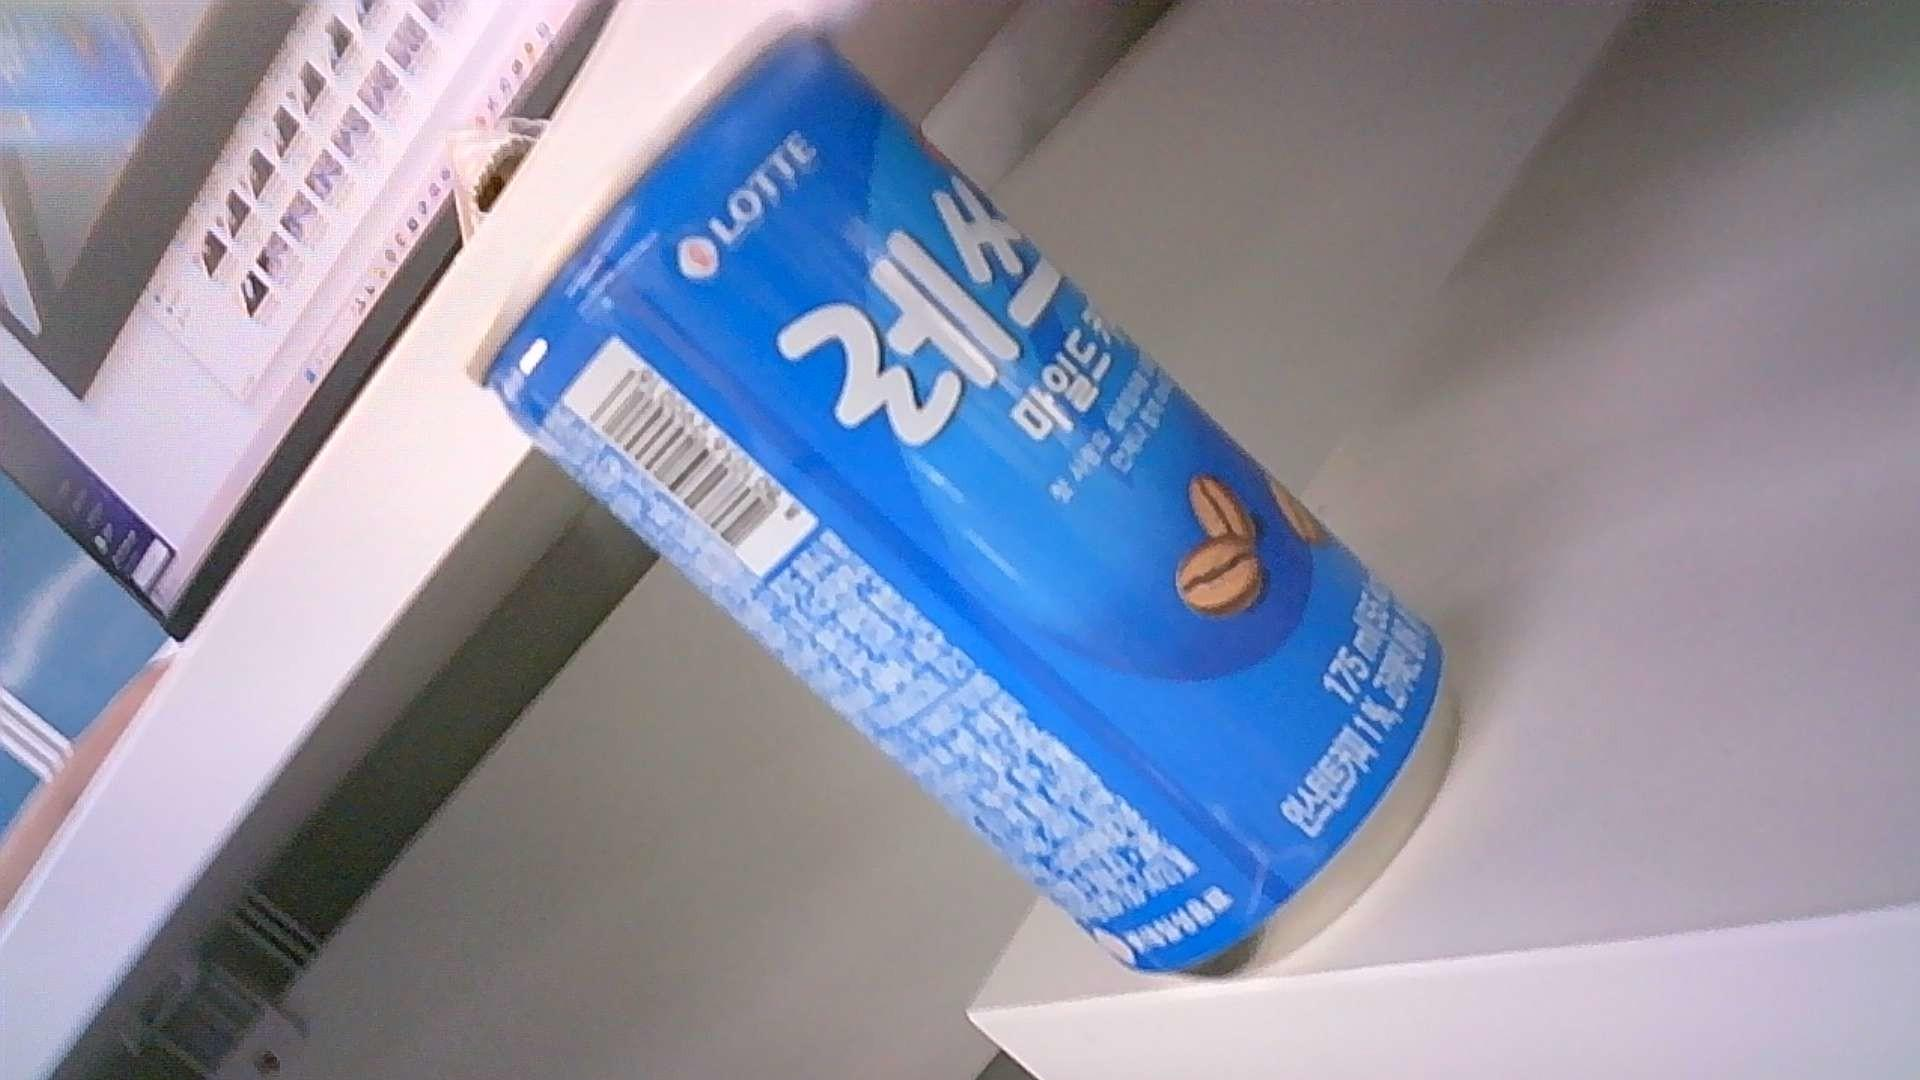letsbe: (467, 8, 1464, 980)
